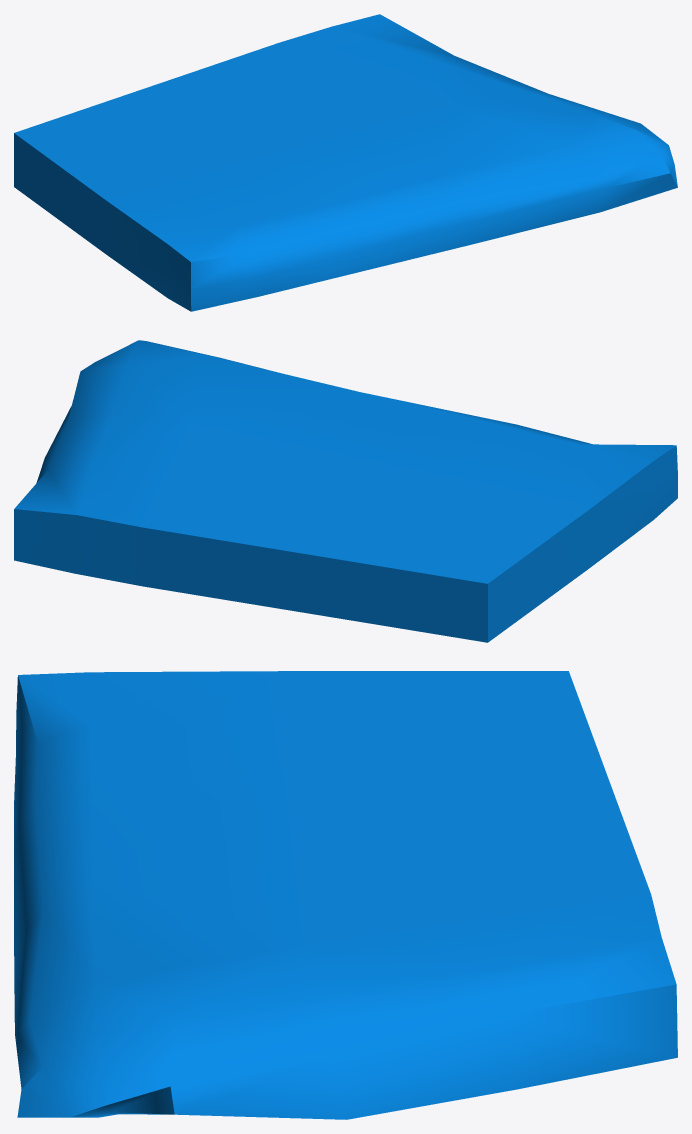
File: Floor_03.fbx
3 renders of one model, top to bottom at view 1: azimuth 30°, elevation 25°; view 2: azimuth 150°, elevation 25°; view 3: azimuth 270°, elevation 25°, orthographic. The views are drawn at different scales.
Parts seen in each view (by area): view 1: Floor_03; view 2: Floor_03; view 3: Floor_03.
Part boxes in pixels (<box>): Floor_03: <box>14,14,677,311</box>; Floor_03: <box>14,340,677,642</box>; Floor_03: <box>14,671,677,1119</box>.
Bounding box in the file's own units: 1220 × 124 × 879.
